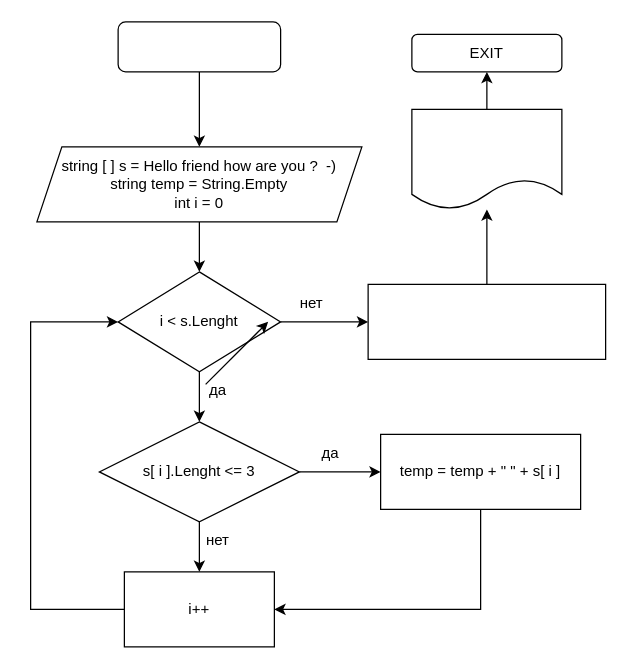
The diagram is 628 pixels wide and 669 high, and some of its shapes have lost their labels. The shapes that lost their labels are listed below. From the top down, each one's centre as x and y in pixels, then its label:
the point at 199,46: START
the point at 486,158: res
the point at 486,321: string [ ] res = temp.Split()
